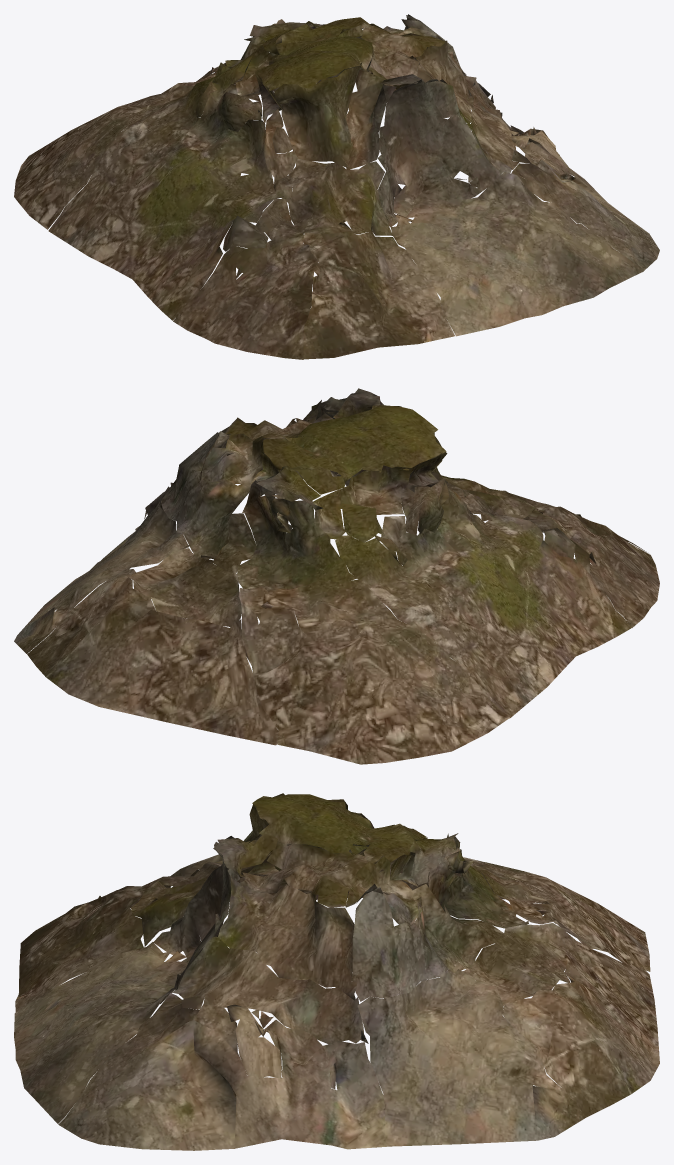
File: tree_stump_01.glb
3 views of the same model, one above another, from view 1: azimuth 30°, elevation 25°; view 2: azimuth 150°, elevation 25°; view 3: azimuth 270°, elevation 25° (orthographic). The views are drawn at different scales.
Visible parts, largest first — view 1: tree_stump_01; view 2: tree_stump_01; view 3: tree_stump_01.
Boxes of the visible parts, x1,y1,x2,y2 form: tree_stump_01: (14, 14, 659, 359); tree_stump_01: (14, 388, 659, 764); tree_stump_01: (14, 793, 659, 1150).
Size of the model in its own units: 1.42 by 0.571 by 1.59.
Materials: 1 (1 with a texture image).
